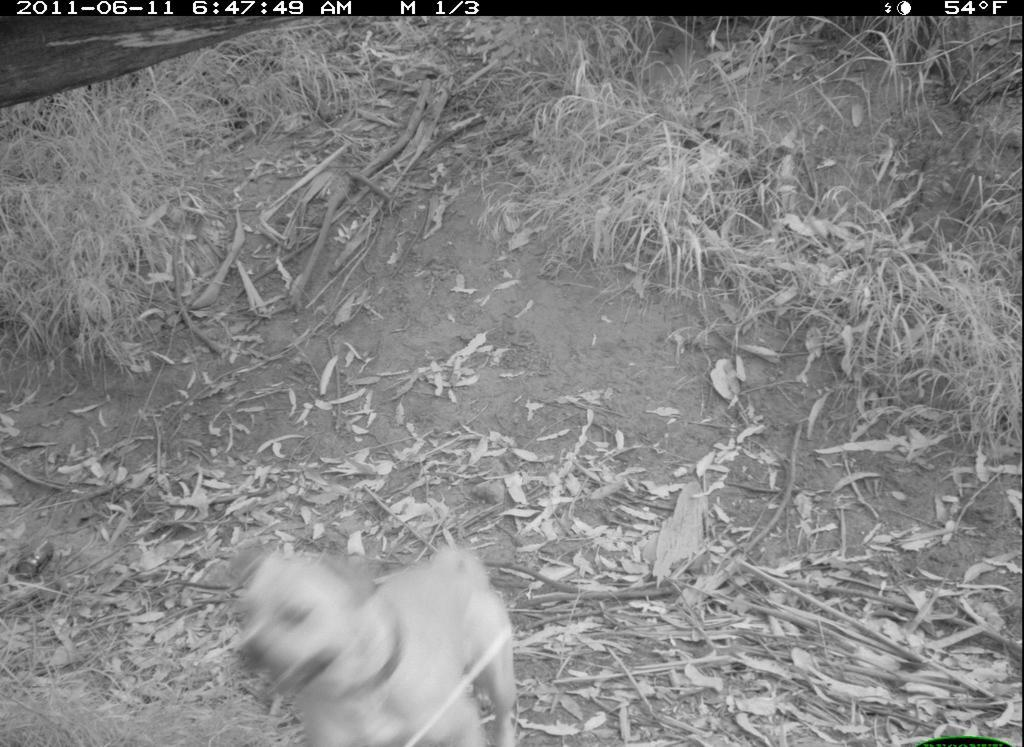dog: (223, 530, 532, 747)
